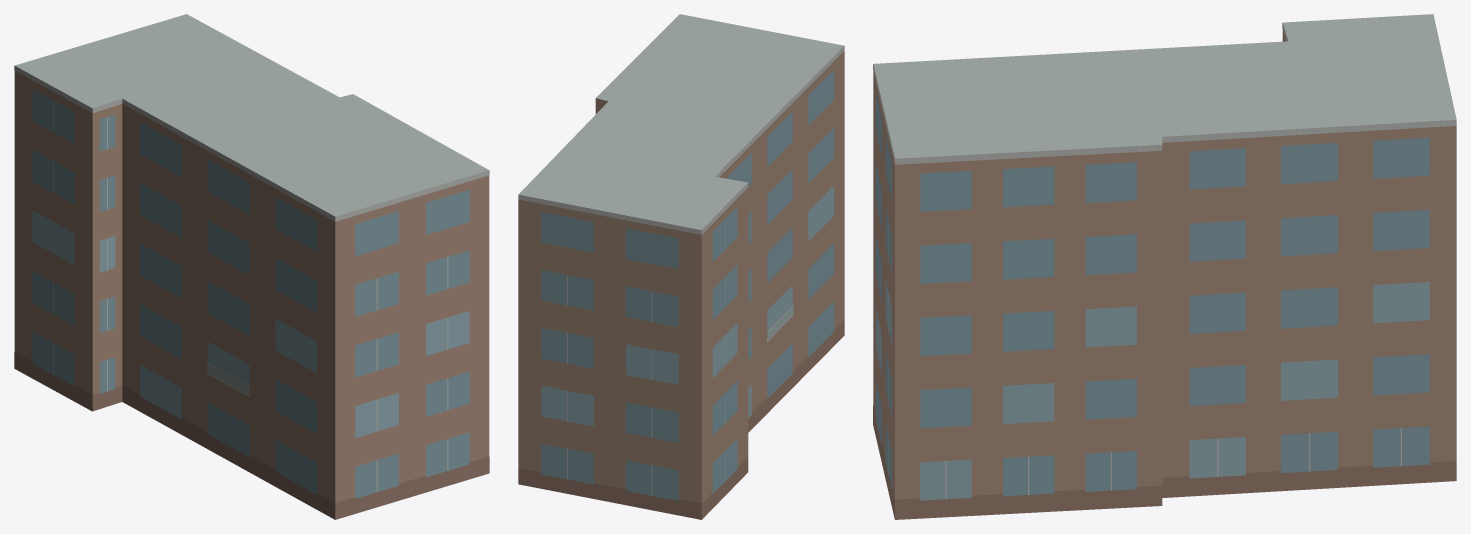
File: survey-upis-32652713.glb
The picture shows the model from 3 angles, left to right: view 1: azimuth 30°, elevation 25°; view 2: azimuth 150°, elevation 25°; view 3: azimuth 270°, elevation 25°; orthographic projection. The views are drawn at different scales.
Parts seen in each view (by area): view 1: survey-upis-32652713.tmp; view 2: survey-upis-32652713.tmp; view 3: survey-upis-32652713.tmp.
Boxes of the visible parts, bbox=[...] form: survey-upis-32652713.tmp: bbox=[14, 14, 489, 519]; survey-upis-32652713.tmp: bbox=[518, 14, 844, 519]; survey-upis-32652713.tmp: bbox=[873, 14, 1456, 519].
Bounding box in the file's own units: 12.56 × 14.6 × 21.39.
